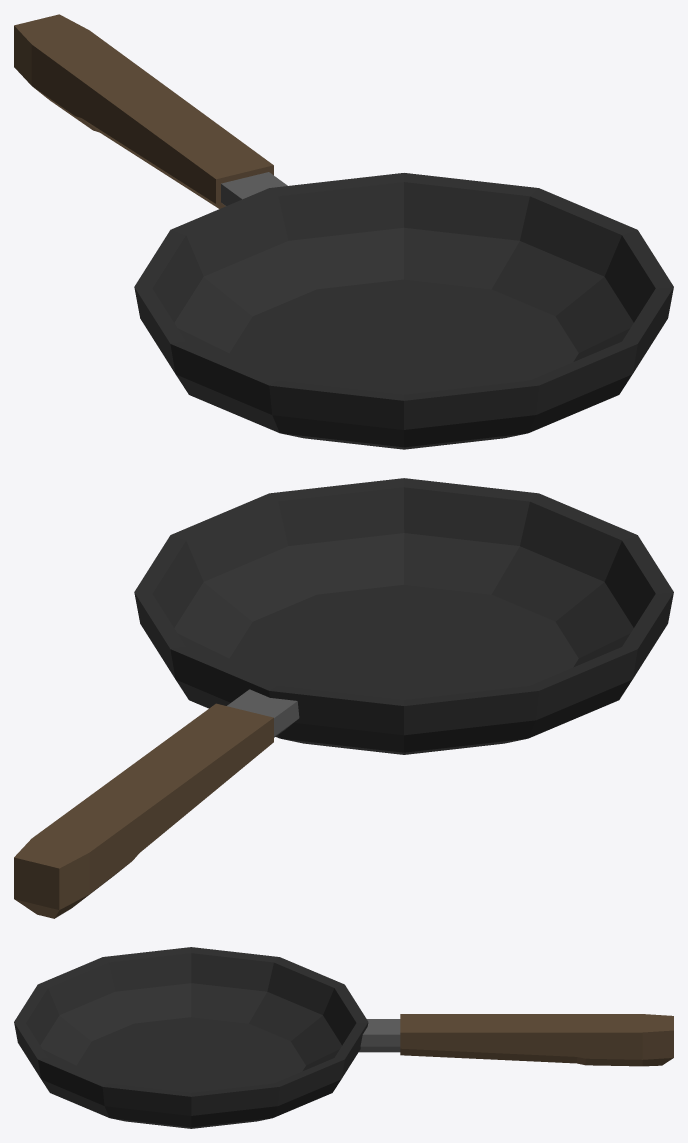
File: quaternius-survival-pan-small.glb
3 renders of one model, top to bottom at view 1: azimuth 30°, elevation 25°; view 2: azimuth 150°, elevation 25°; view 3: azimuth 270°, elevation 25°, orthographic. The views are drawn at different scales.
Parts seen in each view (by area): view 1: Pan_Small; view 2: Pan_Small; view 3: Pan_Small.
Part boxes in pixels (x1,y1,x2,y2): Pan_Small: (14, 14, 673, 449); Pan_Small: (14, 478, 673, 918); Pan_Small: (14, 947, 673, 1128).
Bounding box in the file's own units: 1.17 × 0.2318 × 2.19.
